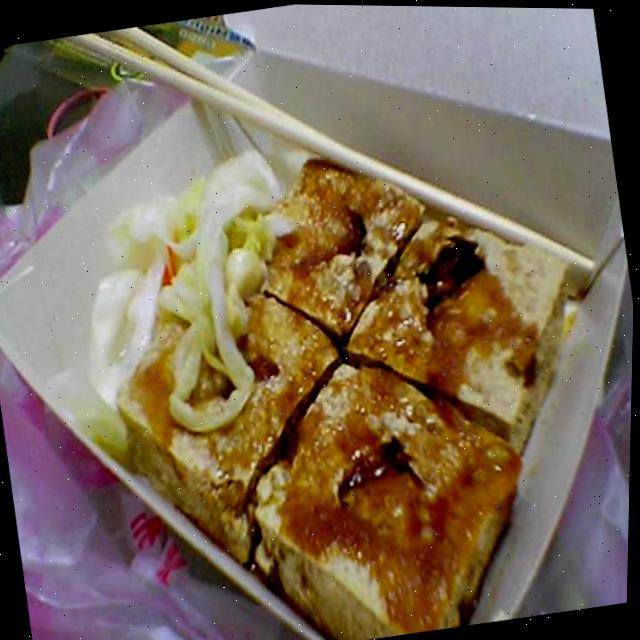豆腐料理: (0, 23, 640, 640)
